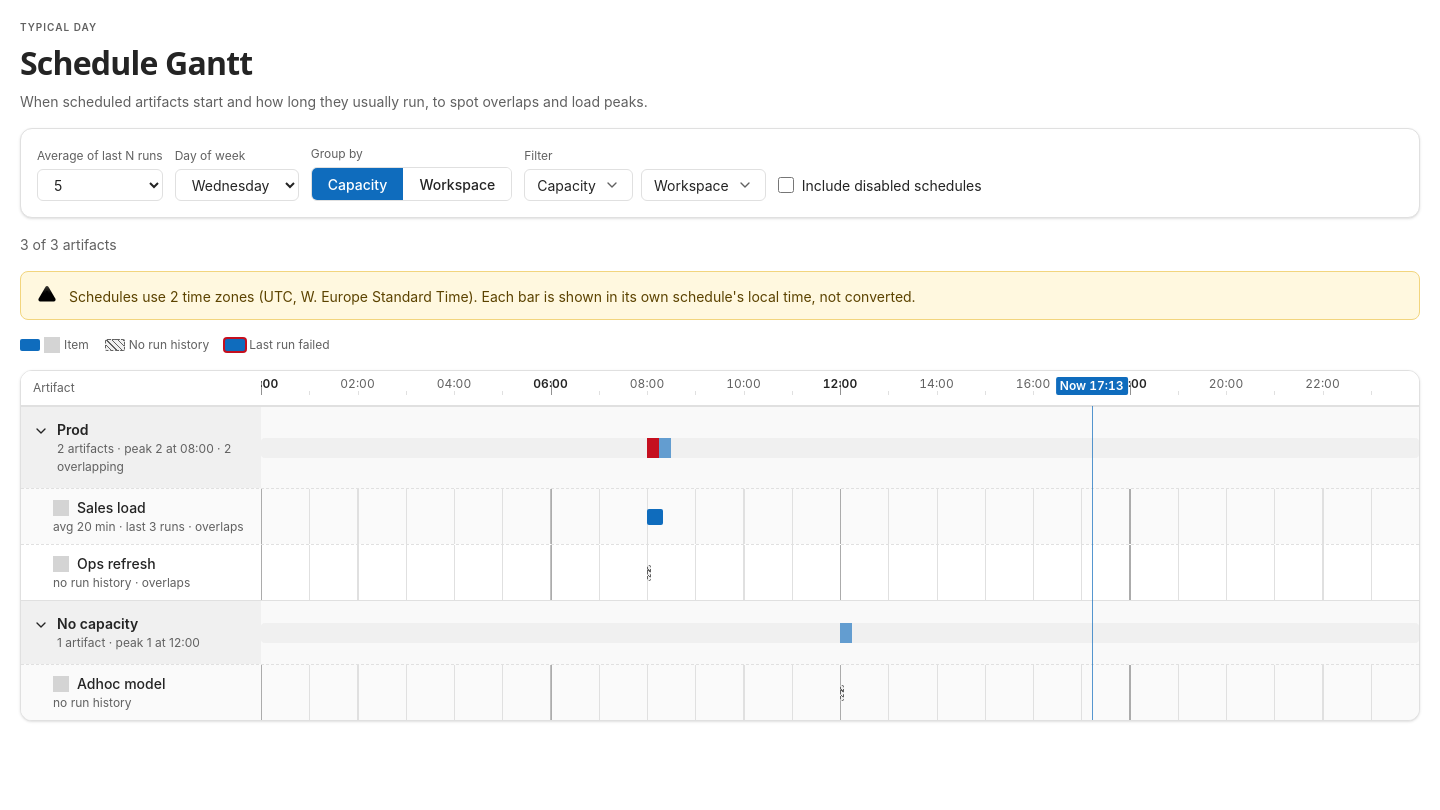
Test: GanttView › regroups by workspace
Click the button "workspace": (457,184) [403,168,511,200]
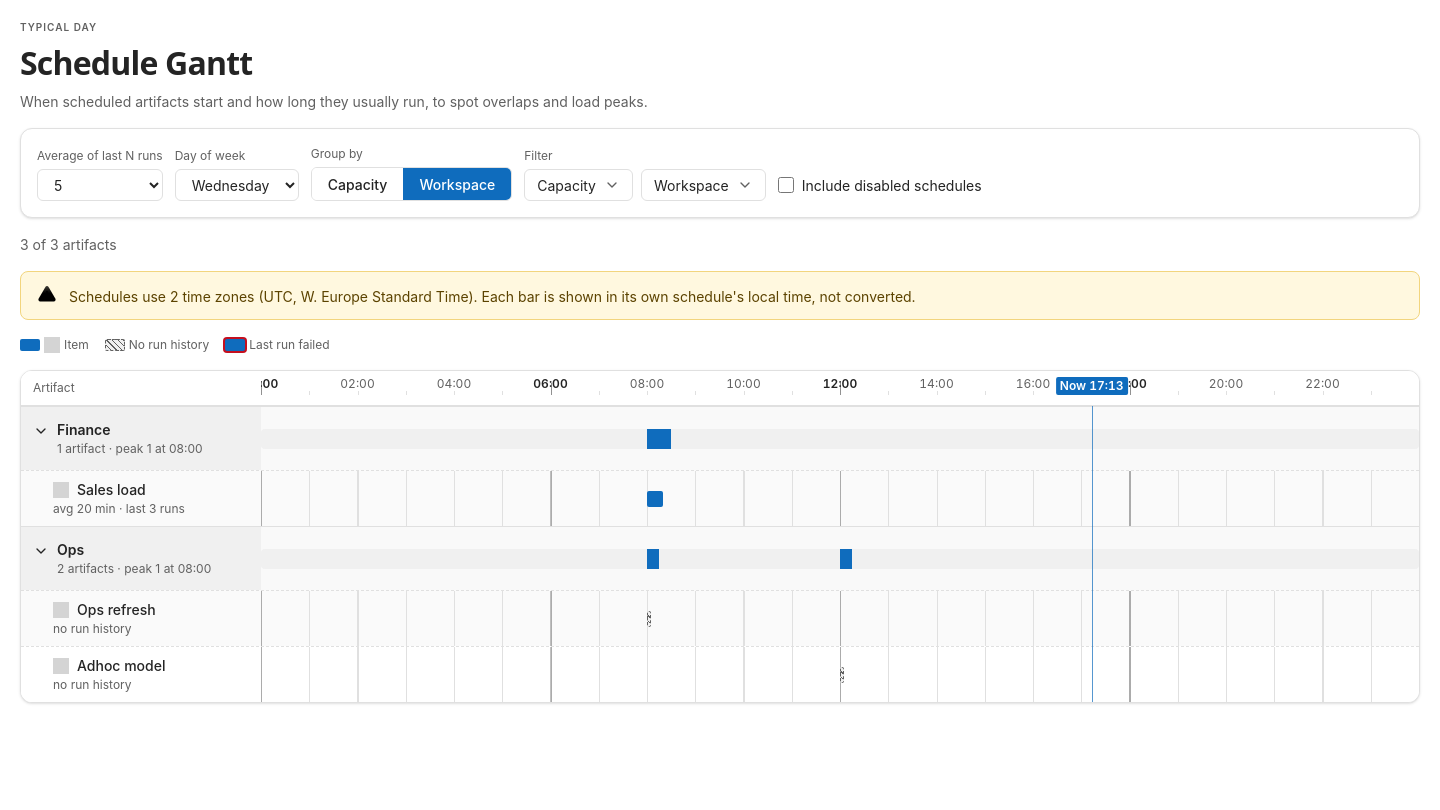
Check: the button "Finance 1 artifact · peak 1 at 08:00" is shown, box [21,407,261,470]
Check: the button "Ops 2 artifacts · peak 1 at 08:00" is shown, box [21,527,261,590]
Check: the button "No capacity" is gone
